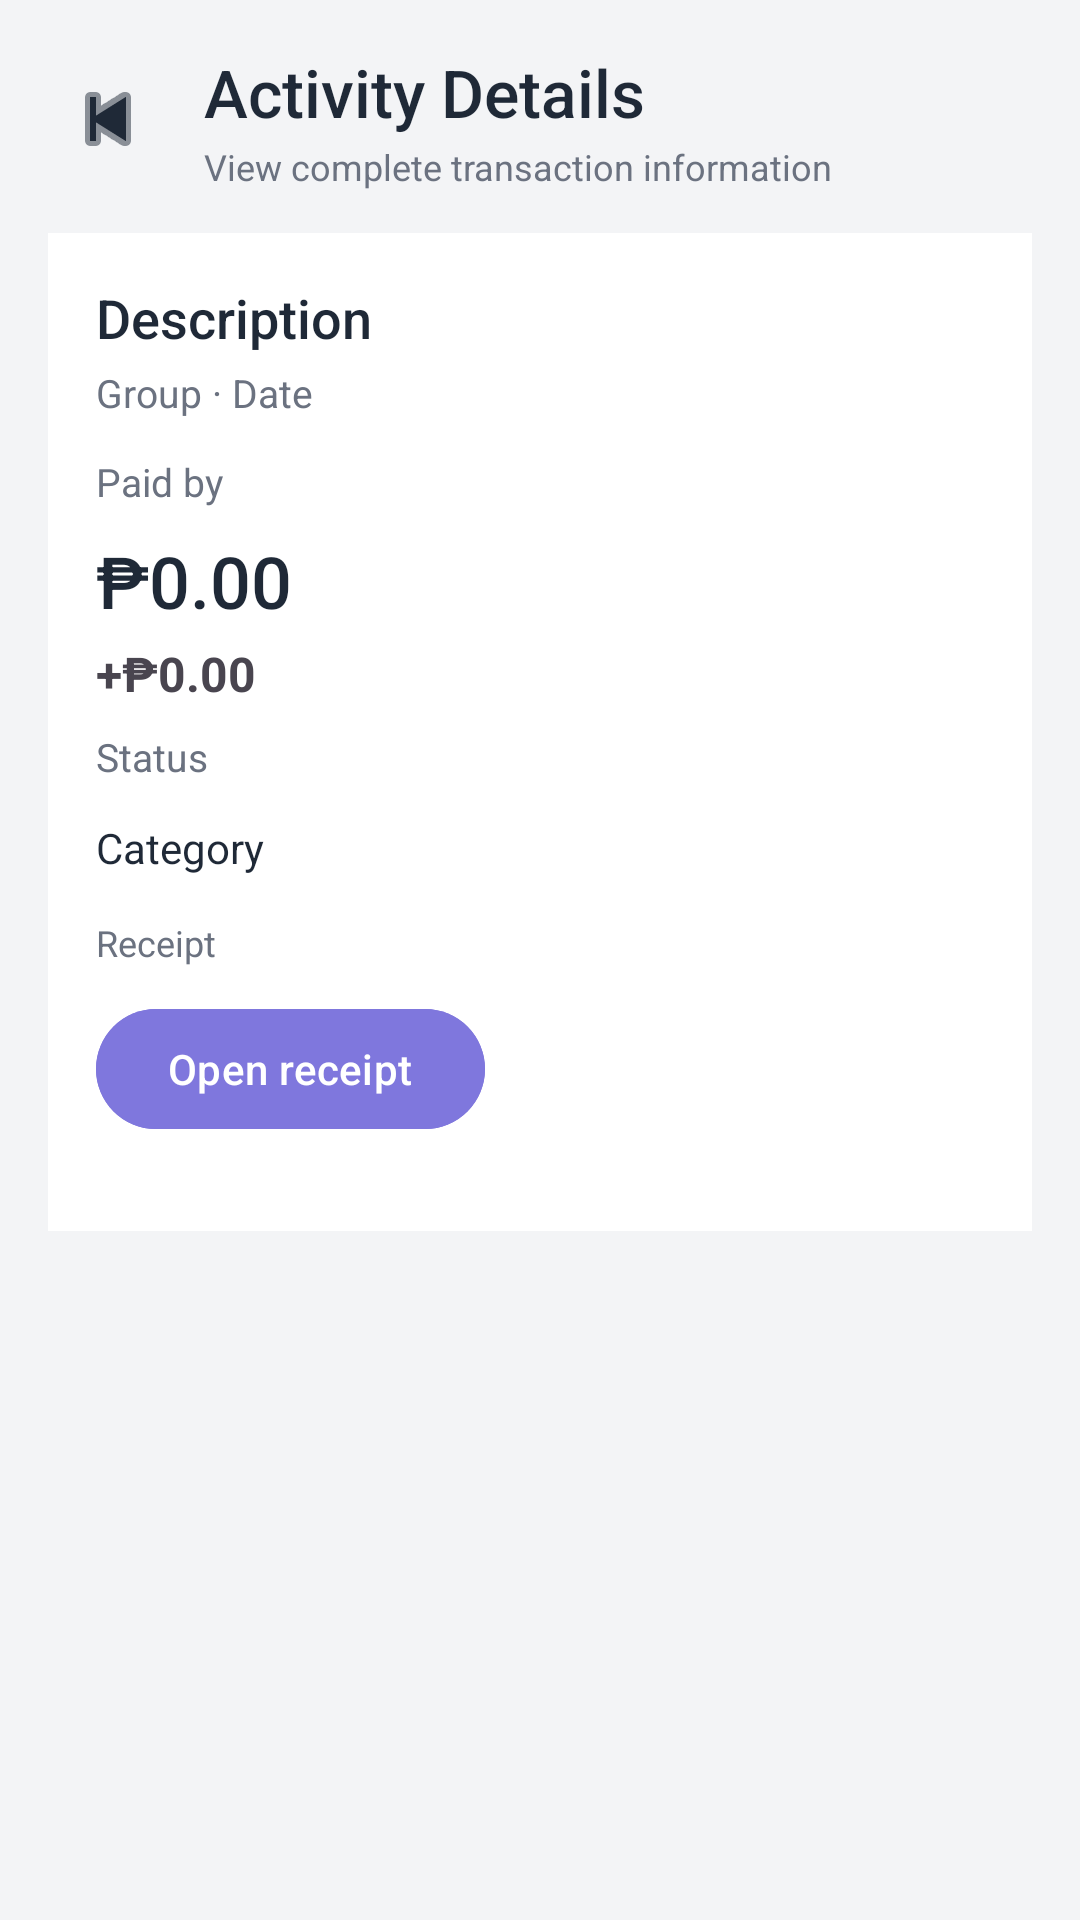

Icon click points for this 1080w x 1920h phone screenshot, format (x=x, y=y):
Back: (x=108, y=119)
